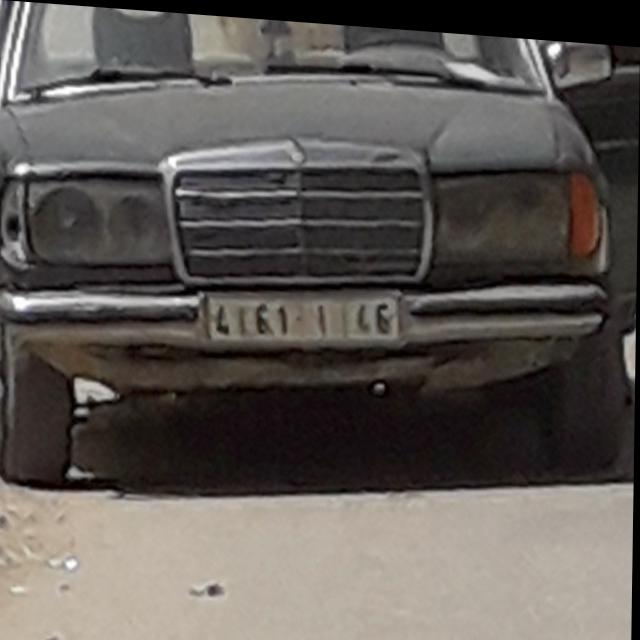License-Plate: (205, 287, 399, 341)
